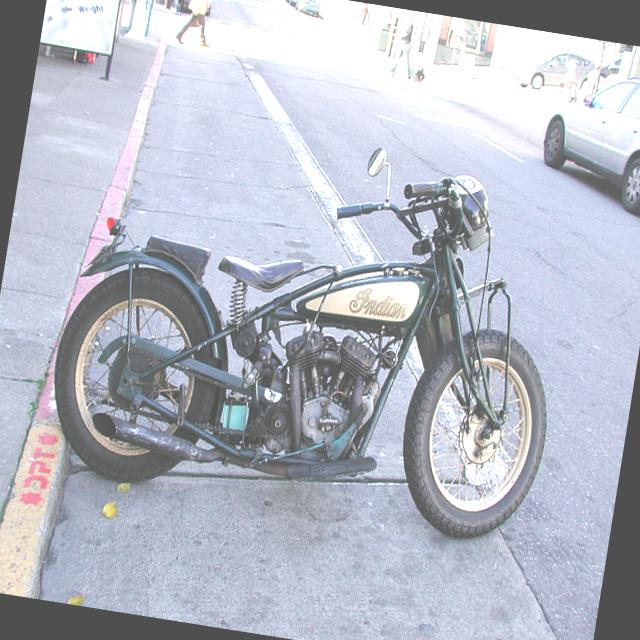Vehicle: (32, 118, 579, 548), (531, 63, 640, 218), (510, 43, 598, 99), (598, 47, 640, 90), (177, 0, 215, 16), (293, 0, 322, 15)
